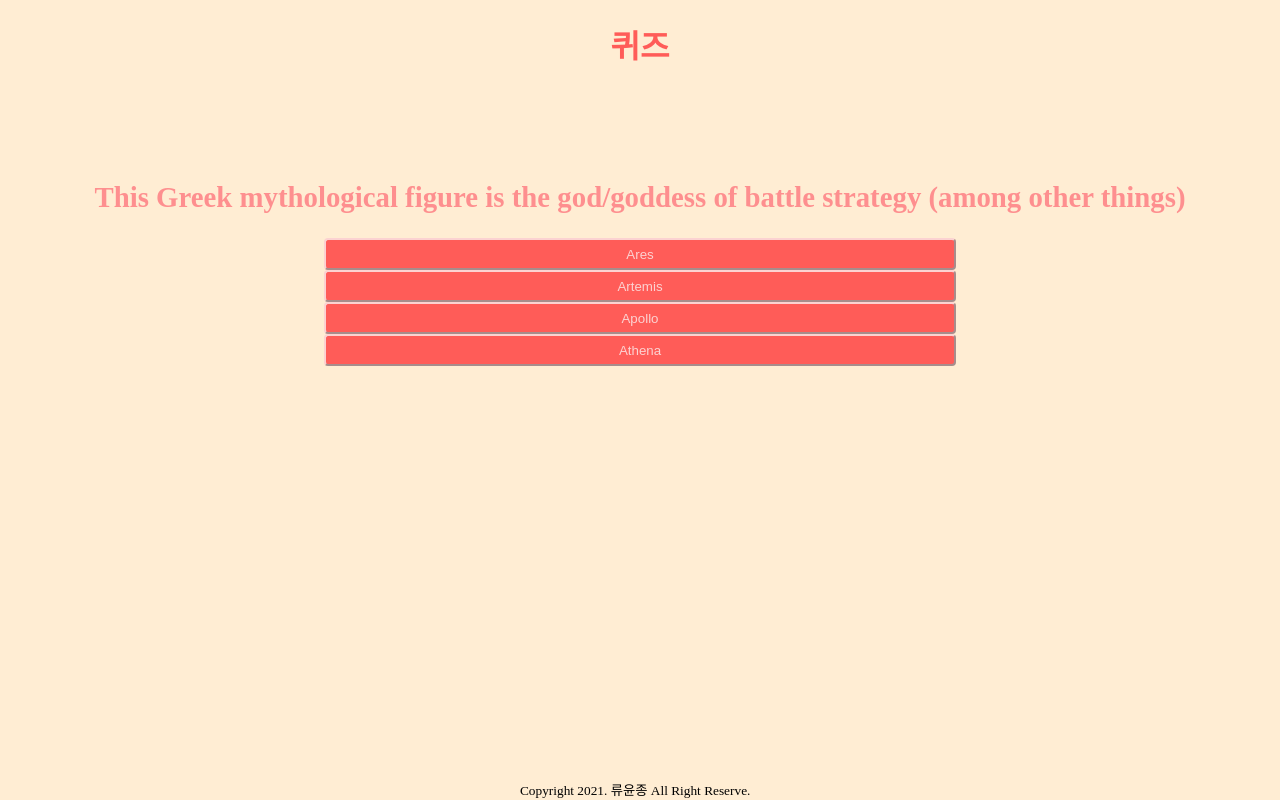
Quiz 컴포넌트 › 오답 선택시 확인
Step 1. Click the button "Ares" → click(640, 254), box [324,238,956,270]
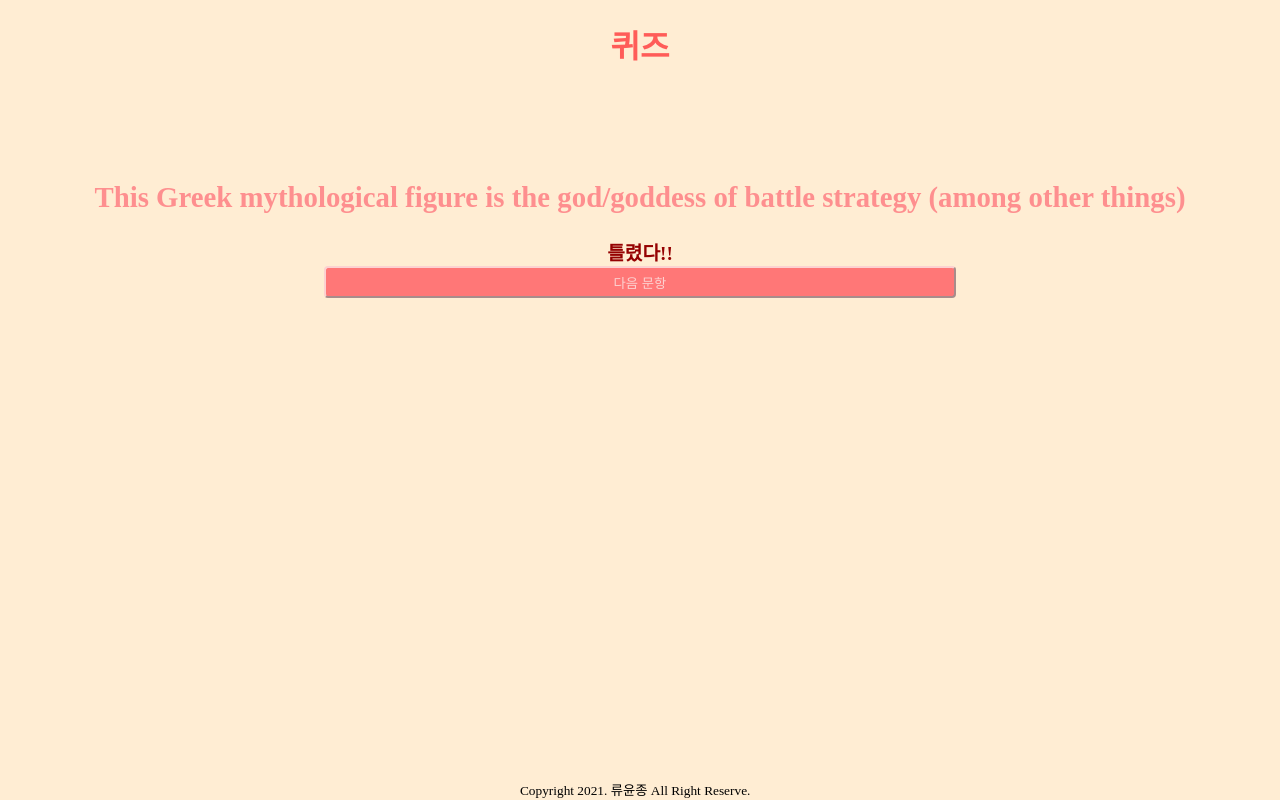
expect the text "틀렸다!!" is shown: met, box [607,243,673,264]
expect the text "Athena" is gone: met, box [94,181,1186,298]
